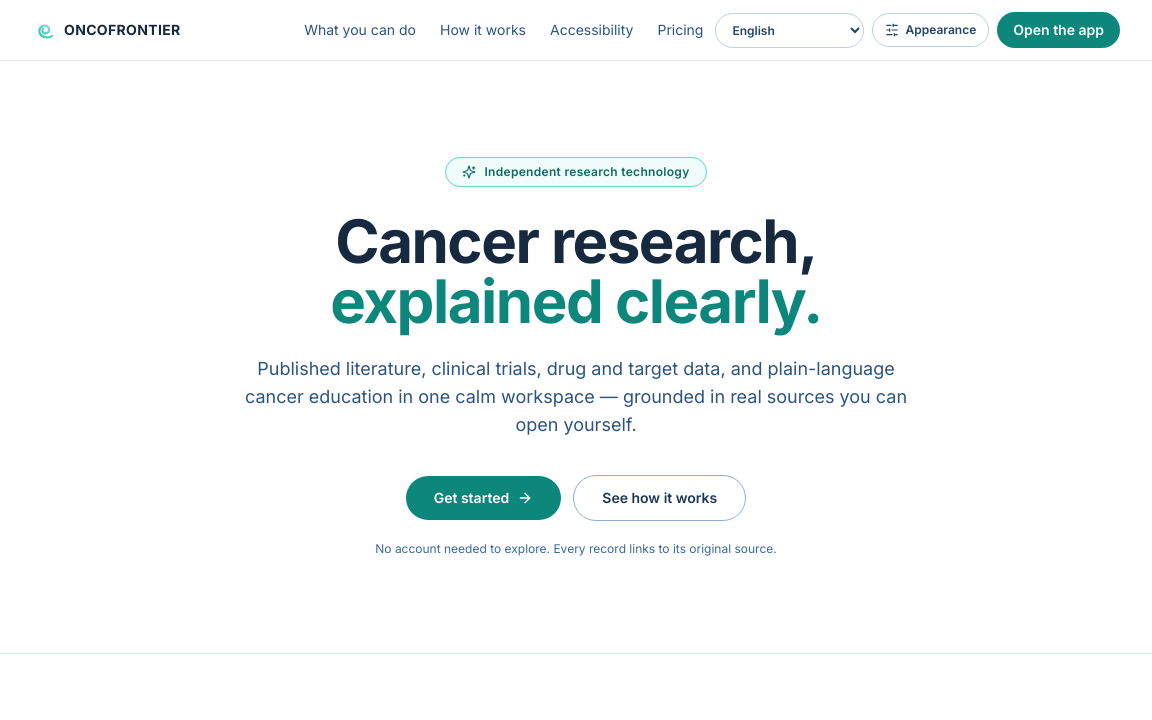
Test: public landing page › switches the interface language and marks languages without a translation
Step 1. Select "Français" in the dropdown → [790, 30], box x1=716 y1=12 x2=864 y2=48
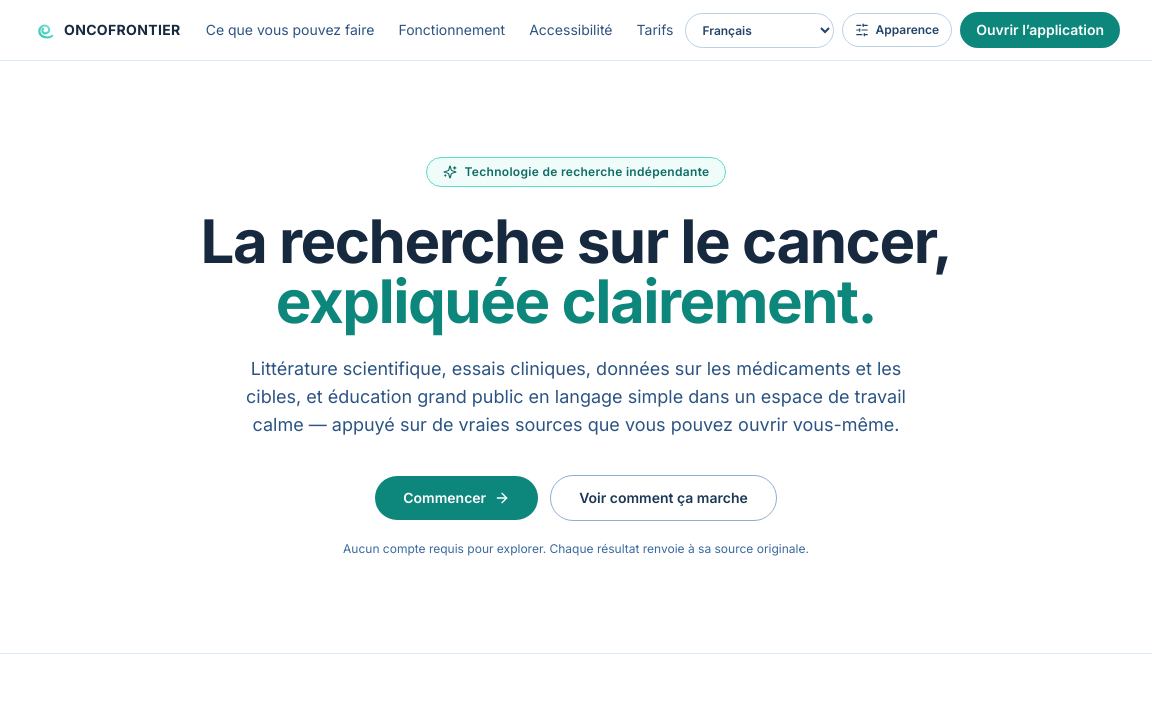
Expected: the heading shows "La recherche sur le cancer,", x1=201 y1=205 x2=951 y2=277
Step 2. Select "Español" in the dropdown → [760, 30], box x1=686 y1=12 x2=834 y2=48
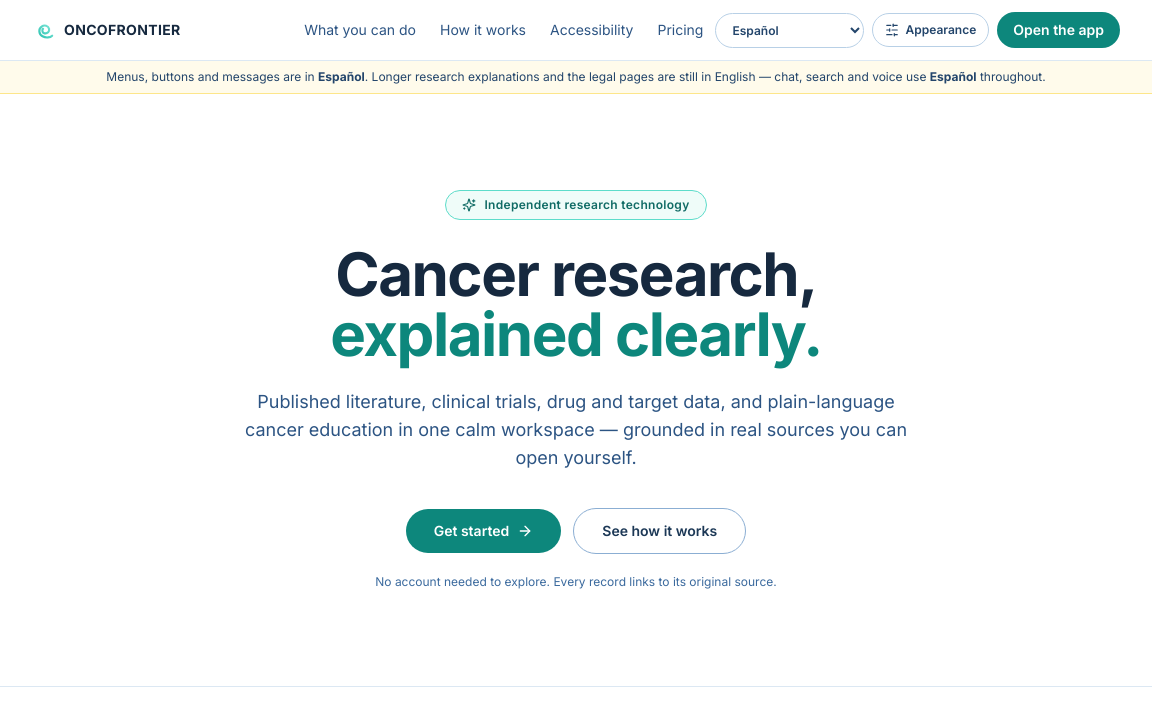
Expected: the heading shows "Cancer research,", x1=335 y1=238 x2=817 y2=310
Expected: the message shows "Español", x1=318 y1=69 x2=365 y2=84
